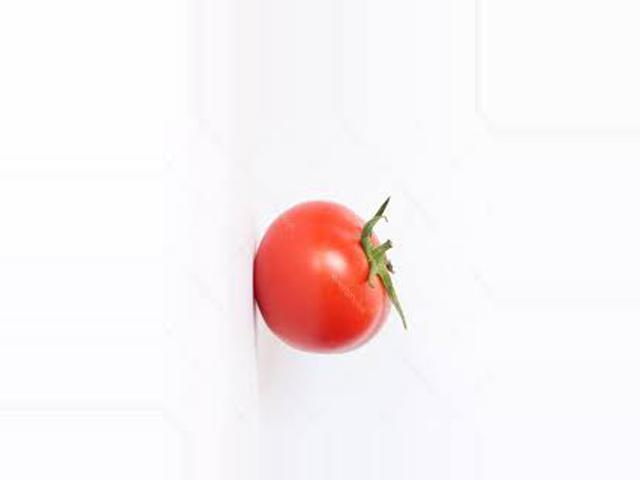tomato: (252, 201, 388, 356)
